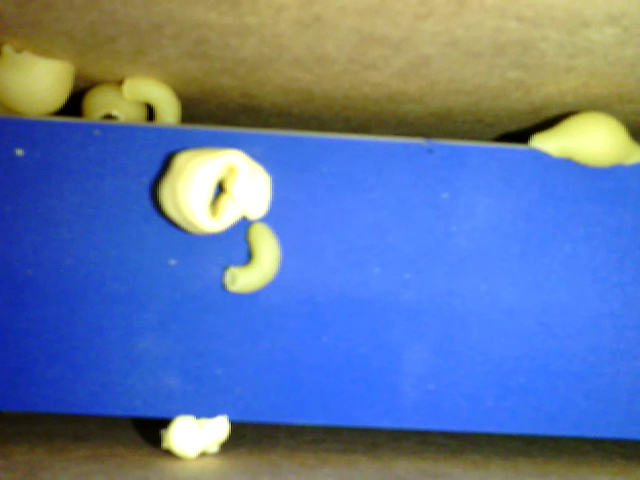elbow: (224, 220, 283, 293), (121, 74, 184, 125)
shell: (527, 110, 639, 168), (1, 38, 78, 119), (80, 80, 151, 127)
tortellini: (148, 144, 277, 237)
